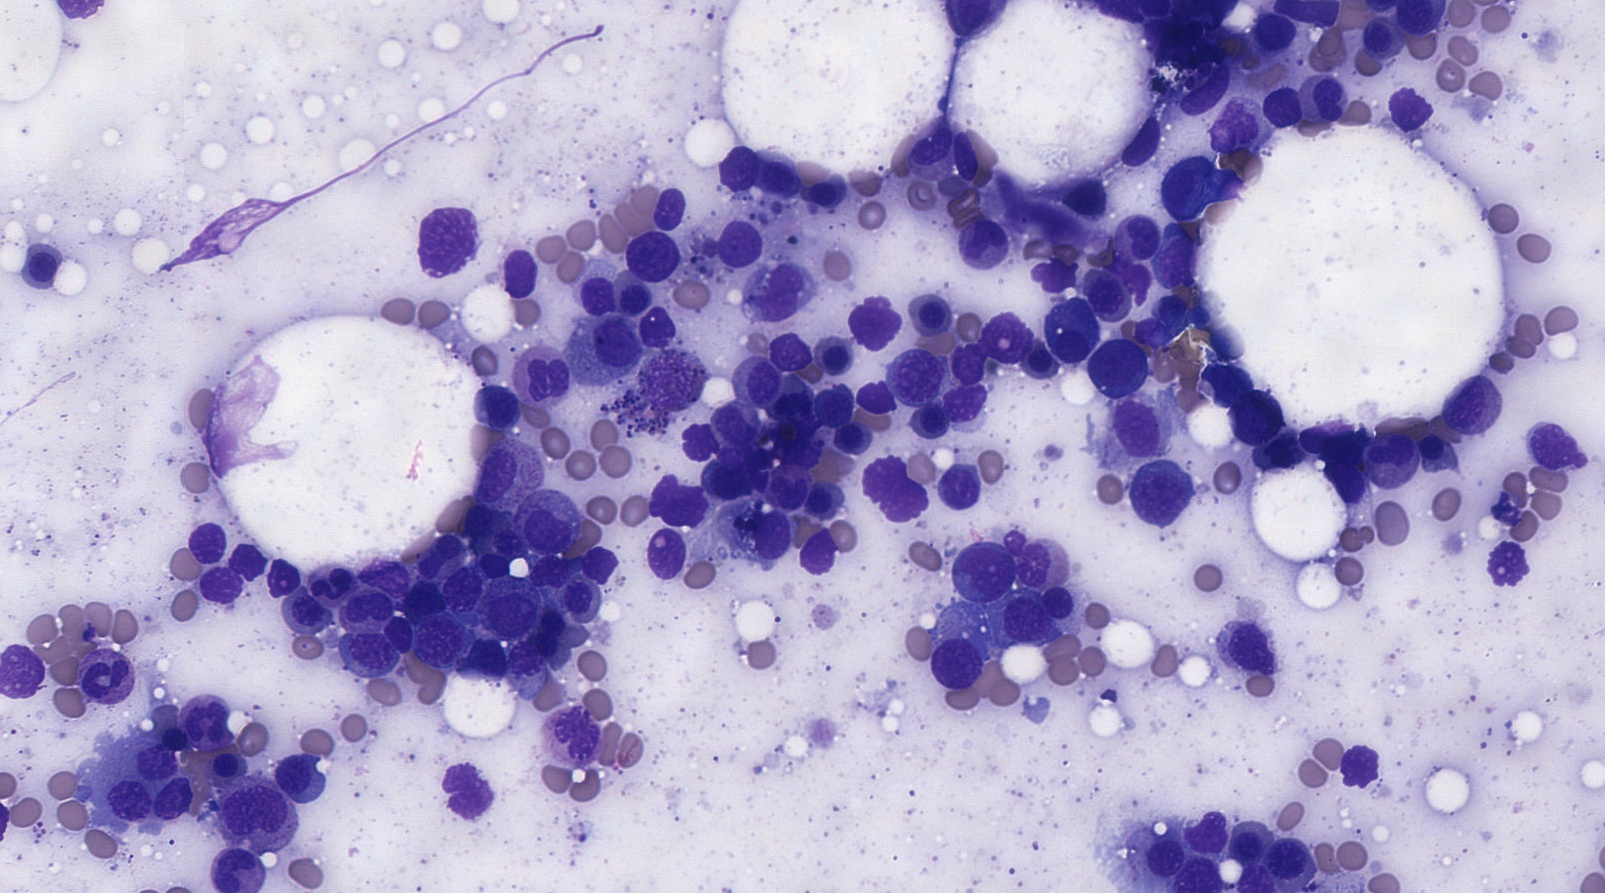objectness: (308, 560, 358, 610), (520, 501, 571, 552), (1446, 383, 1496, 433), (471, 449, 521, 499), (340, 583, 390, 633), (763, 468, 813, 519), (1370, 428, 1420, 478), (416, 526, 466, 576), (1093, 338, 1143, 388), (1036, 249, 1086, 299), (261, 550, 311, 600), (1159, 159, 1209, 210), (1018, 184, 1069, 234), (195, 559, 245, 609), (363, 550, 413, 600), (873, 459, 923, 509), (630, 227, 680, 277), (708, 451, 759, 501), (575, 538, 626, 588), (713, 219, 764, 269), (939, 131, 989, 181), (651, 473, 701, 523), (16, 239, 67, 289), (904, 392, 954, 442), (1358, 7, 1408, 57), (905, 285, 955, 335), (928, 637, 978, 687), (750, 151, 800, 201), (1047, 320, 1097, 370), (756, 263, 806, 313), (552, 706, 602, 756), (516, 357, 566, 407), (705, 399, 755, 449), (1118, 206, 1167, 256), (905, 122, 955, 172), (967, 539, 1017, 589), (1318, 426, 1368, 476), (370, 604, 420, 654), (143, 774, 193, 824), (177, 512, 226, 563), (1482, 534, 1532, 584), (1229, 392, 1279, 442), (195, 202, 245, 252), (1333, 741, 1384, 791), (1259, 80, 1309, 130), (411, 217, 461, 267), (1007, 534, 1058, 584), (150, 714, 199, 764), (1152, 282, 1202, 332), (849, 301, 899, 351), (762, 324, 812, 374), (497, 249, 547, 298), (1117, 114, 1167, 164), (710, 142, 760, 192), (1253, 425, 1303, 475), (1056, 172, 1106, 222), (1477, 479, 1528, 529), (790, 526, 840, 576), (673, 412, 723, 462), (639, 530, 689, 580), (1113, 401, 1163, 451), (1198, 359, 1248, 409), (573, 266, 623, 316), (474, 381, 524, 430), (1247, 3, 1297, 53), (932, 462, 982, 512), (824, 408, 875, 457), (796, 474, 846, 523), (438, 563, 488, 613), (272, 748, 321, 798), (416, 616, 465, 666), (1036, 578, 1086, 628), (1261, 838, 1311, 888), (1406, 418, 1455, 468), (1081, 268, 1131, 318), (1017, 334, 1067, 384), (593, 315, 642, 365), (557, 570, 607, 620), (890, 350, 940, 400), (343, 624, 392, 674), (481, 585, 532, 635), (68, 664, 118, 714), (735, 359, 785, 408), (958, 213, 1007, 263), (1299, 71, 1349, 121), (643, 179, 693, 229), (644, 355, 694, 405), (101, 774, 151, 824), (399, 573, 449, 622), (123, 741, 173, 791), (855, 365, 905, 415), (444, 764, 494, 814), (1186, 809, 1236, 859), (634, 298, 684, 348), (223, 534, 273, 584), (1385, 81, 1435, 131), (1153, 234, 1203, 284), (1131, 302, 1181, 352), (1186, 66, 1236, 115), (460, 632, 509, 682), (200, 739, 250, 789), (1222, 819, 1272, 869), (279, 585, 329, 635), (811, 324, 861, 374), (812, 379, 862, 429), (799, 167, 849, 217), (1132, 466, 1182, 516), (612, 269, 662, 319), (1141, 830, 1191, 880), (999, 586, 1049, 636), (500, 633, 550, 683), (0, 644, 45, 695), (1172, 855, 1222, 893), (947, 0, 996, 35), (1288, 0, 1338, 31)
